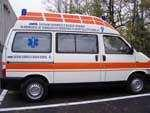car: (0, 8, 149, 102)
